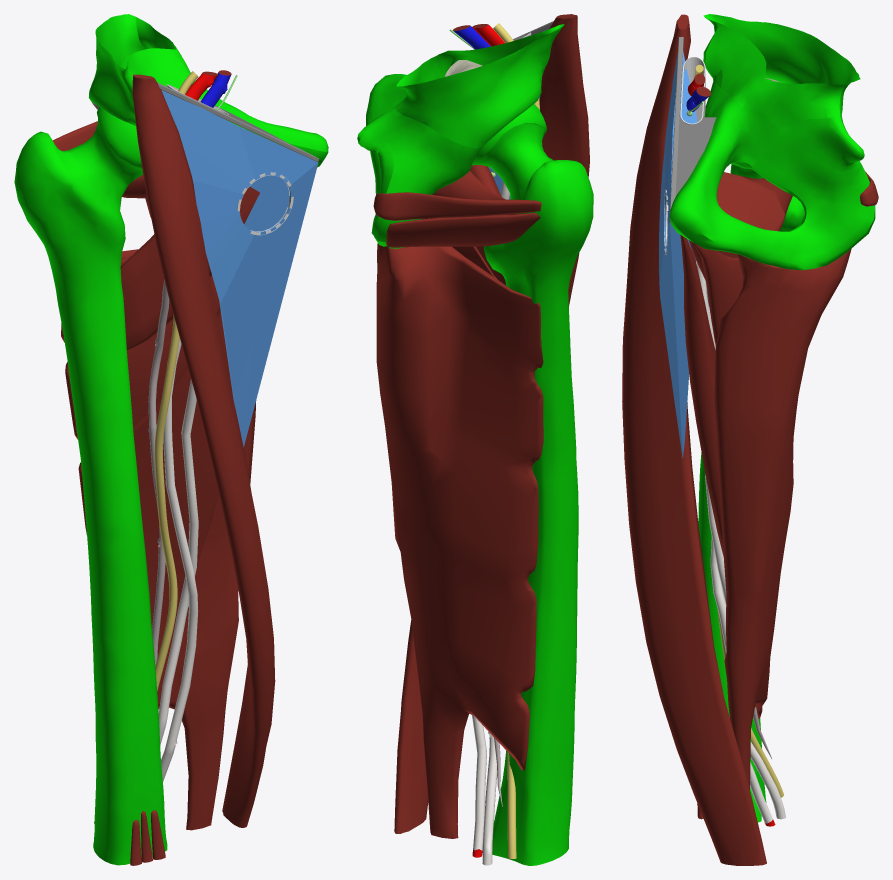
Rendered from bedrennyi-treugolnik-1702030322.glb.
3 views of the same model, side by side, from view 1: azimuth 30°, elevation 25°; view 2: azimuth 150°, elevation 25°; view 3: azimuth 270°, elevation 25° (orthographic). The views are drawn at different scales.
Parts seen in each view (by area): view 1: N03H21201_Rectus_femoris_m_R, Плоскость.001, ТраекторияNurbs, Плоскость.002; view 2: N03H21201_Rectus_femoris_m_R, ТраекторияNurbs; view 3: N03H21201_Rectus_femoris_m_R, Плоскость.001, Плоскость.004, Плоскость.002, ТраекторияNurbs, Окружность.
Boxes of the visible parts, x1,y1,x2,y2 form: N03H21201_Rectus_femoris_m_R: (14,14,328,865); Плоскость.001: (161,90,318,447); ТраекторияNurbs: (94,71,198,823); Плоскость.002: (157,82,318,162); N03H21201_Rectus_femoris_m_R: (357,14,593,865); ТраекторияNurbs: (493,23,539,858); N03H21201_Rectus_femoris_m_R: (622,14,878,865); Плоскость.001: (659,51,697,458); Плоскость.004: (675,117,716,196); Плоскость.002: (669,37,683,222); ТраекторияNurbs: (693,64,783,797); Окружность: (680,57,705,124).
Bounding box in the file's own units: 0.1525 × 0.4534 × 0.1344.
